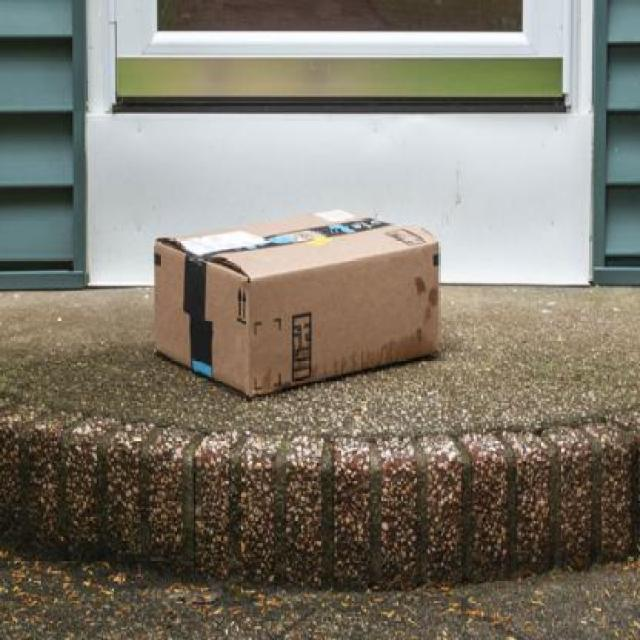cardboxes: (152, 208, 445, 402)
